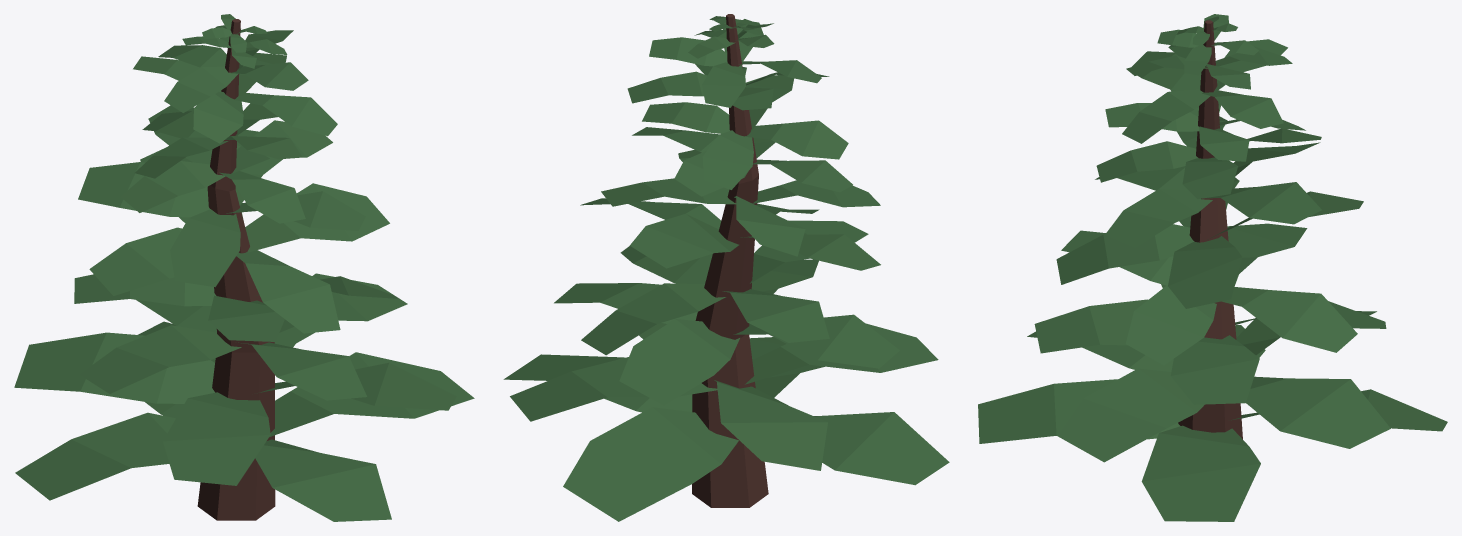
The model's file is Tree.fbx.
The picture shows the model from 3 angles, left to right: view 1: azimuth 30°, elevation 25°; view 2: azimuth 150°, elevation 25°; view 3: azimuth 270°, elevation 25°; orthographic projection. The views are drawn at different scales.
Parts seen in each view (by area): view 1: Cylinder.012, Cylinder.018, Cylinder.019, Cylinder.017, Cylinder.013, Cylinder.022, Cylinder.033, Cylinder.015, Cylinder.034, Cylinder.025, Cylinder.030, Cylinder.032 (+25 smaller); view 2: Cylinder.012, Cylinder.014, Cylinder.013, Cylinder.023, Cylinder.019, Cylinder.020, Cylinder.028, Cylinder.022, Cylinder.027, Cylinder.031, Cylinder.018, Cylinder.015 (+23 smaller); view 3: Cylinder.015, Cylinder.021, Cylinder.020, Cylinder.012, Cylinder.017, Cylinder.028, Cylinder.024, Cylinder.029, Cylinder.032, Cylinder.025, Cylinder.033, Cylinder.037 (+23 smaller).
Part boxes in pixels (x1=…): Cylinder.012: x1=197, y1=19, x2=275, y2=520; Cylinder.018: x1=163, y1=392, x2=270, y2=485; Cylinder.019: x1=14, y1=332, x2=214, y2=403; Cylinder.017: x1=255, y1=439, x2=391, y2=521; Cylinder.013: x1=15, y1=412, x2=175, y2=500; Cylinder.022: x1=79, y1=325, x2=241, y2=393; Cylinder.033: x1=236, y1=250, x2=340, y2=333; Cylinder.015: x1=269, y1=352, x2=474, y2=436; Cylinder.034: x1=170, y1=209, x2=240, y2=287; Cylinder.025: x1=238, y1=342, x2=366, y2=400; Cylinder.030: x1=89, y1=227, x2=181, y2=295; Cylinder.032: x1=245, y1=183, x2=389, y2=252; Cylinder.012: x1=692, y1=14, x2=768, y2=507; Cylinder.014: x1=563, y1=407, x2=738, y2=521; Cylinder.013: x1=814, y1=412, x2=949, y2=485; Cylinder.023: x1=619, y1=319, x2=739, y2=405; Cylinder.019: x1=714, y1=380, x2=827, y2=470; Cylinder.020: x1=510, y1=357, x2=717, y2=421; Cylinder.028: x1=581, y1=283, x2=725, y2=355; Cylinder.022: x1=733, y1=314, x2=899, y2=368; Cylinder.027: x1=722, y1=289, x2=829, y2=342; Cylinder.031: x1=630, y1=213, x2=738, y2=268; Cylinder.018: x1=745, y1=323, x2=938, y2=384; Cylinder.015: x1=503, y1=354, x2=692, y2=412; Cylinder.015: x1=1141, y1=425, x2=1260, y2=521; Cylinder.021: x1=1057, y1=368, x2=1204, y2=462; Cylinder.020: x1=1246, y1=376, x2=1390, y2=448; Cylinder.012: x1=1178, y1=20, x2=1242, y2=439; Cylinder.017: x1=978, y1=379, x2=1180, y2=443; Cylinder.028: x1=1221, y1=287, x2=1357, y2=352; Cylinder.024: x1=1170, y1=335, x2=1259, y2=404; Cylinder.029: x1=1126, y1=285, x2=1216, y2=365; Cylinder.032: x1=1168, y1=236, x2=1242, y2=308; Cylinder.025: x1=1034, y1=299, x2=1147, y2=353; Cylinder.033: x1=1056, y1=224, x2=1194, y2=284; Cylinder.037: x1=1105, y1=189, x2=1212, y2=247.
Size of the model in its own units: 639 by 703 by 640.
